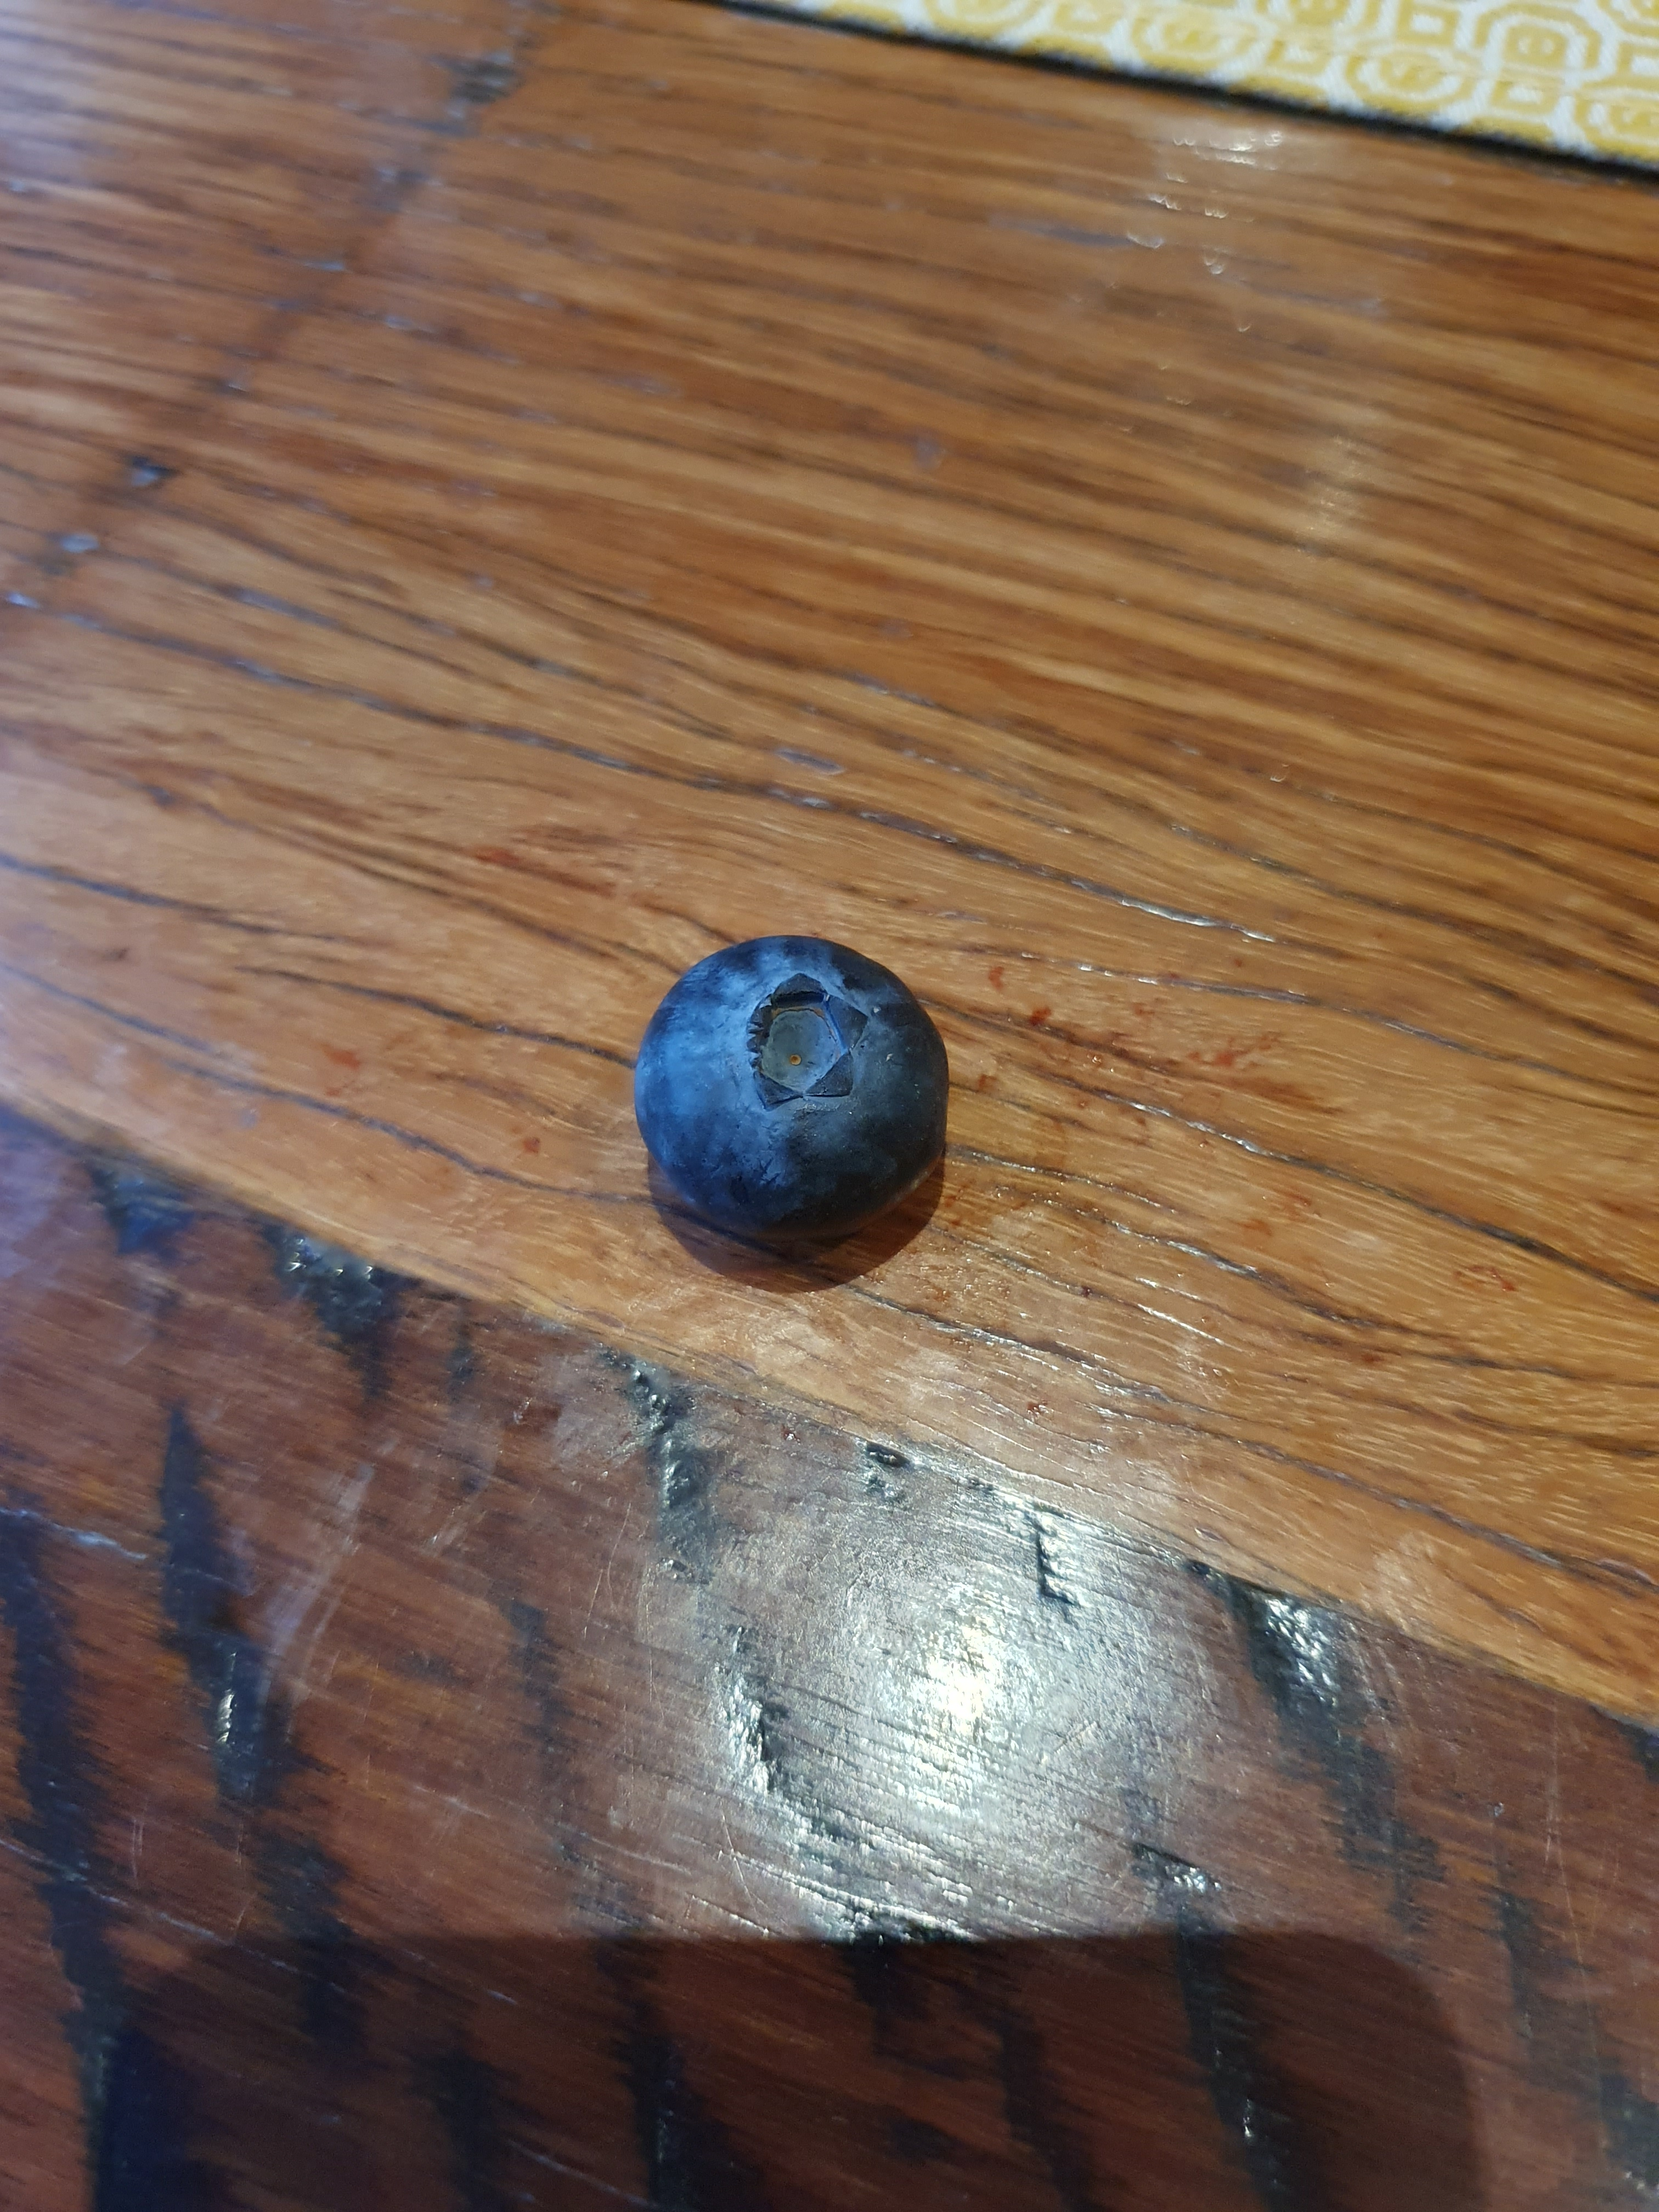blueberry: (619, 906, 964, 1301)
